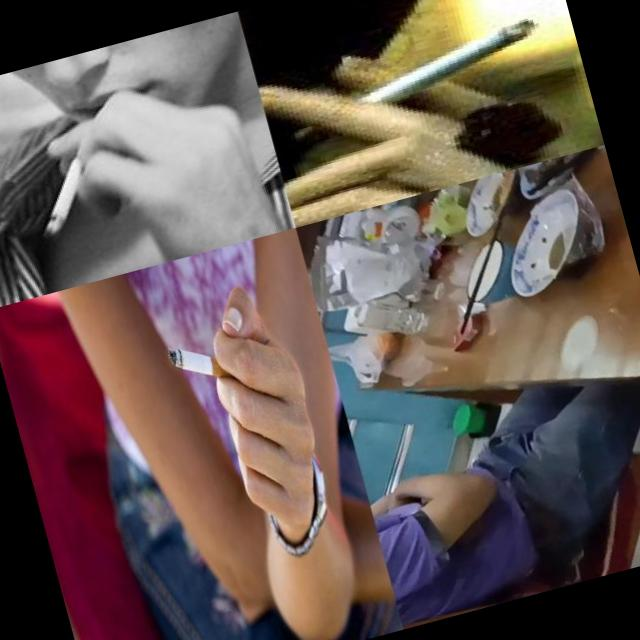smoke: (278, 14, 552, 145), (25, 136, 108, 234), (165, 329, 248, 398)
